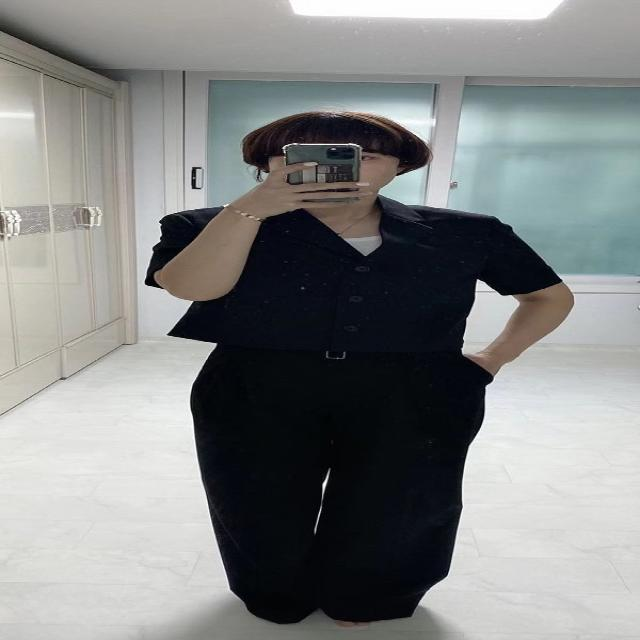blazer: (150, 194, 566, 350)
slacks: (192, 345, 493, 623)
